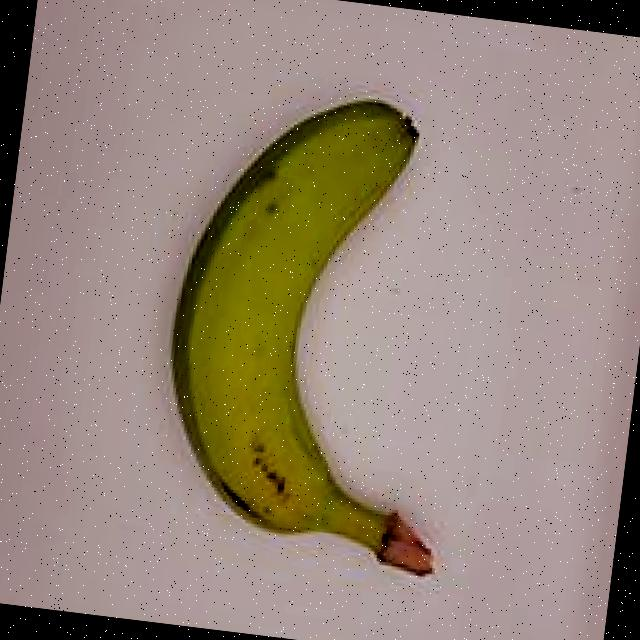Unripe: (98, 46, 537, 620)
